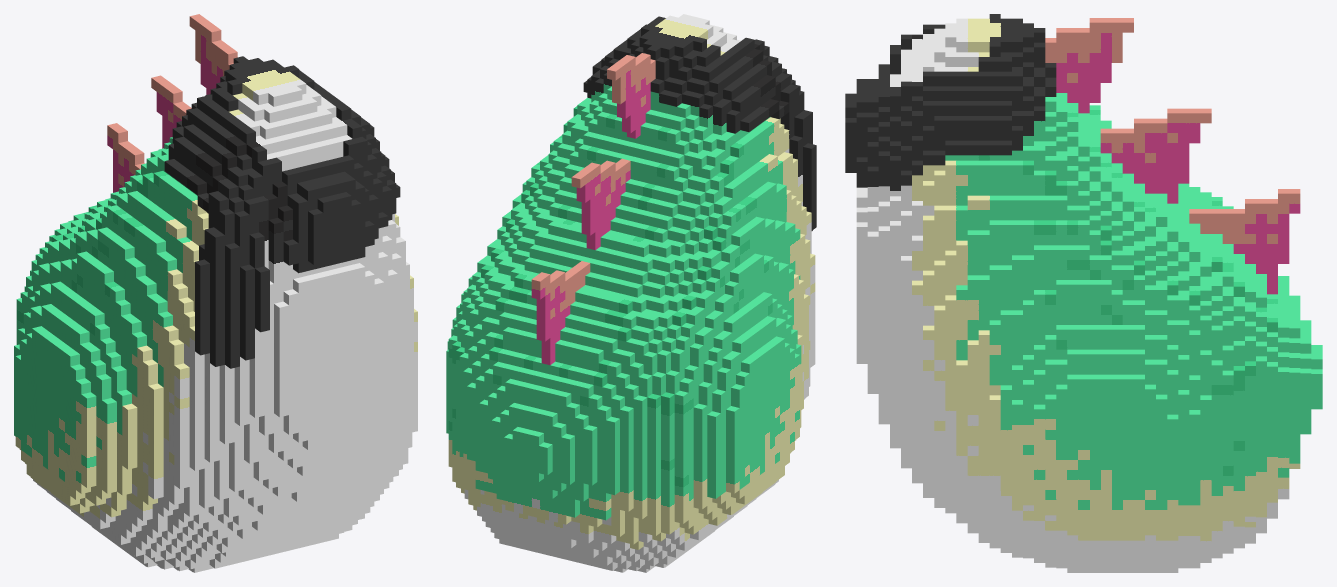
The model's file is black scarf.gltf.
3 views of the same model, side by side, from view 1: azimuth 30°, elevation 25°; view 2: azimuth 150°, elevation 25°; view 3: azimuth 270°, elevation 25° (orthographic). The views are drawn at different scales.
Parts seen in each view (by area): view 1: 03_Body_BlackScarf-Mesh; view 2: 03_Body_BlackScarf-Mesh; view 3: 03_Body_BlackScarf-Mesh.
Boxes of the visible parts, bbox=[...] form: 03_Body_BlackScarf-Mesh: bbox=[14, 14, 417, 572]; 03_Body_BlackScarf-Mesh: bbox=[446, 14, 816, 572]; 03_Body_BlackScarf-Mesh: bbox=[845, 14, 1322, 572].
Size of the model in its own units: 33 by 51 by 43.
1 material, 1 textured.
